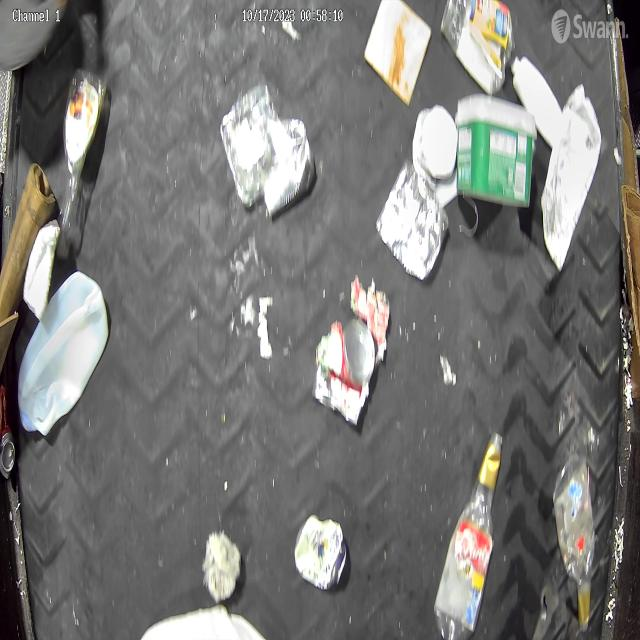can: (376, 156, 449, 280), (265, 119, 315, 217), (293, 513, 348, 590), (332, 317, 376, 384), (0, 383, 15, 480)
milk_jug: (20, 265, 110, 436)
plastic_bottle: (434, 431, 503, 640), (56, 70, 107, 256), (553, 454, 596, 632)
